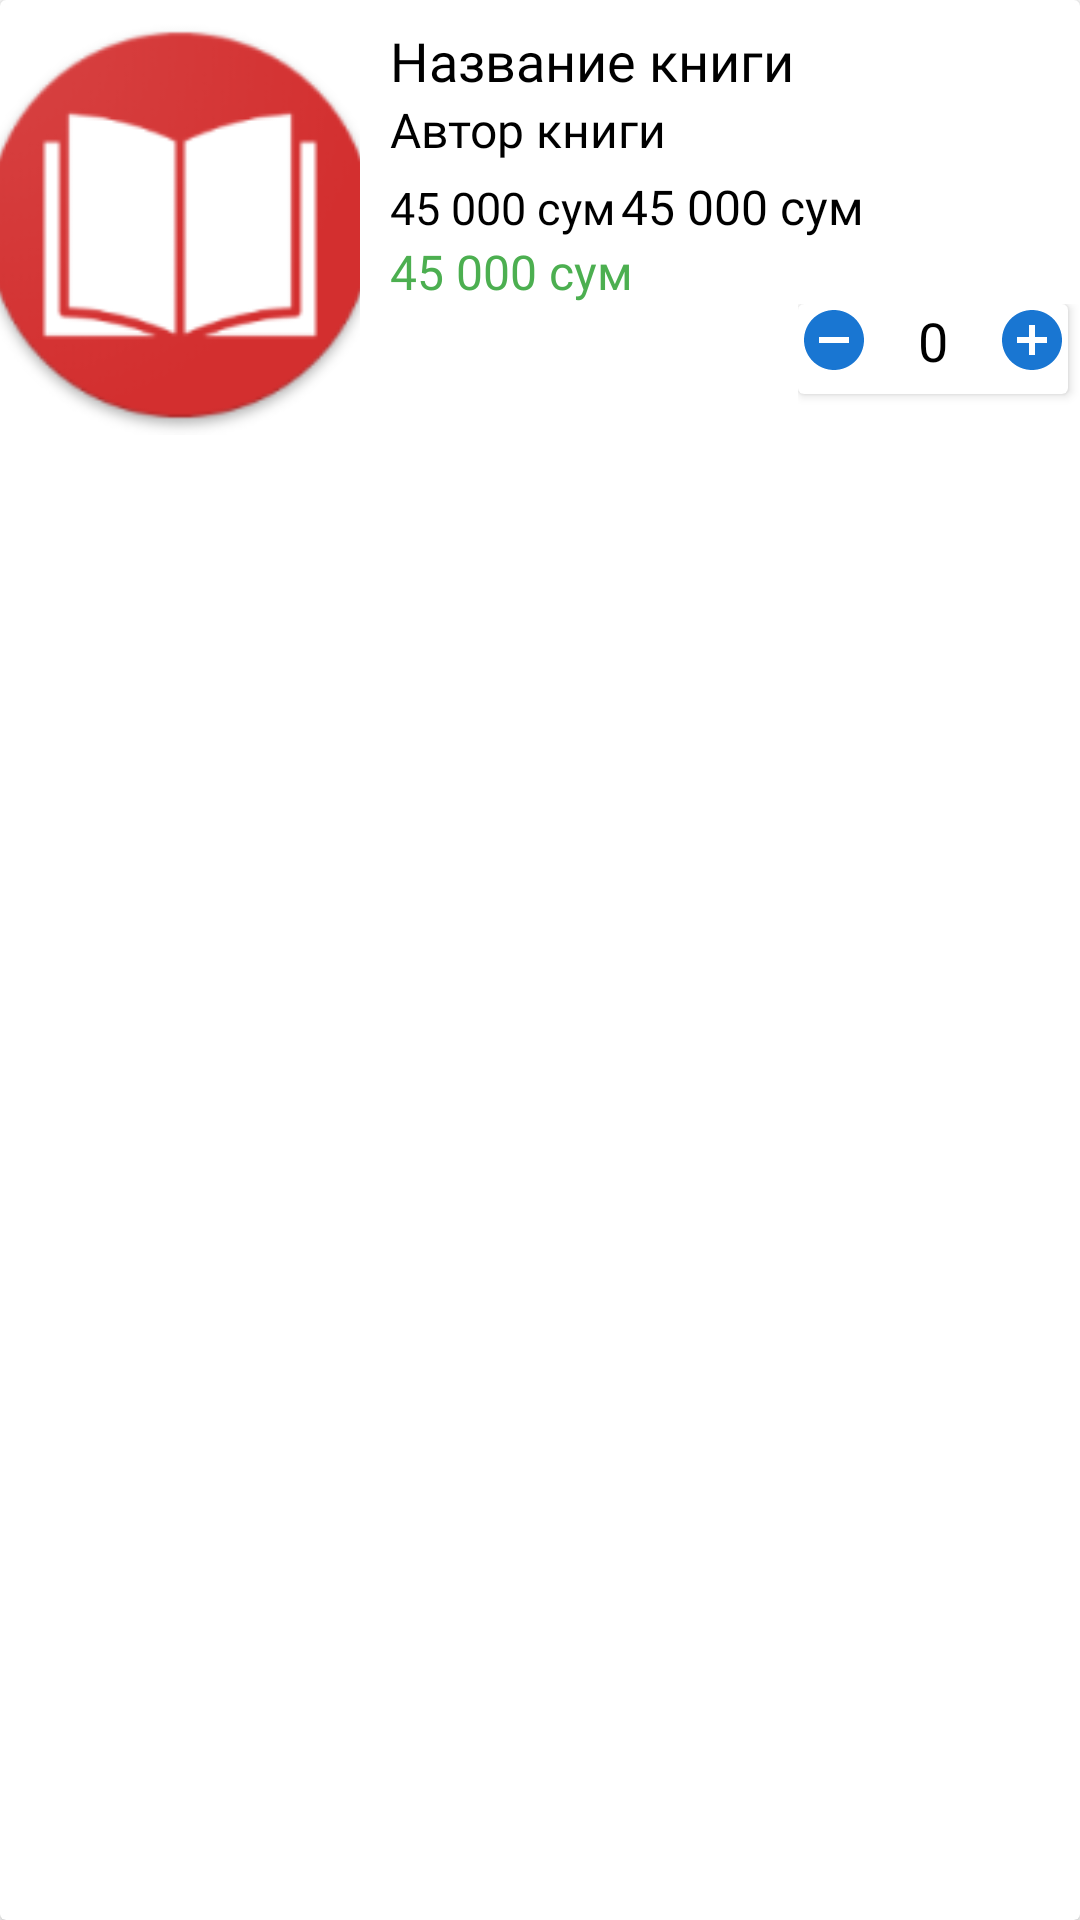

Icons on this 1080×1920 Android screen, each with the point to tap as [x,y]:
Добавь: [1032,340]
Удалять: [834,340]
